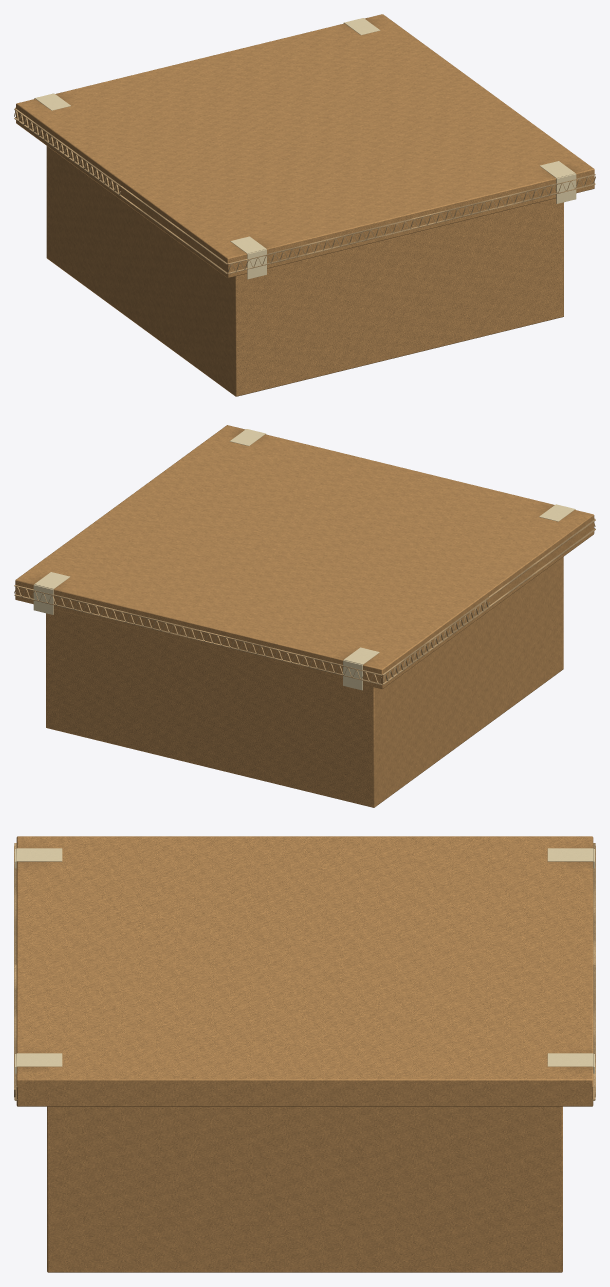
Rendered from 7-upper-box-2-1.fbx.
3 views of the same model, one above another, from view 1: azimuth 30°, elevation 25°; view 2: azimuth 150°, elevation 25°; view 3: azimuth 270°, elevation 25° (orthographic). The views are drawn at different scales.
Parts seen in each view (by area): view 1: upper-box-2-1; view 2: upper-box-2-1; view 3: upper-box-2-1.
Part boxes in pixels (x1,y1,x2,y2): upper-box-2-1: (14,14,595,396); upper-box-2-1: (14,425,595,807); upper-box-2-1: (14,836,595,1272).
Bounding box in the file's own units: 7636 × 3009 × 7672.
Materials: 1 (1 with a texture image).
